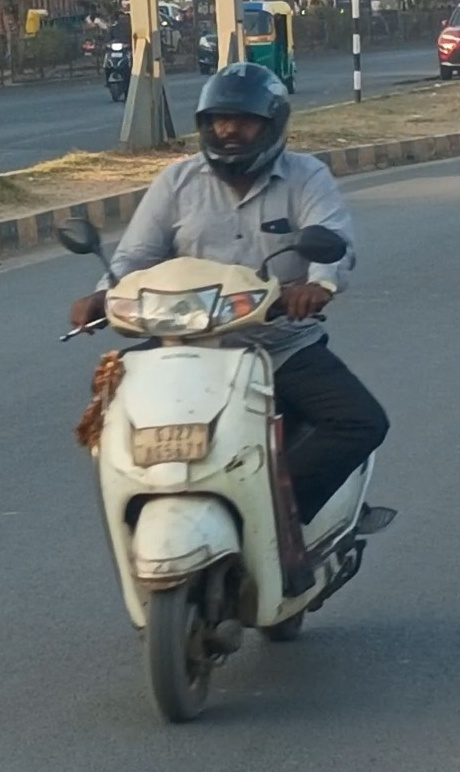BikeWithRider: (50, 54, 411, 731), (96, 8, 143, 103)
Helmet: (182, 53, 310, 187)
